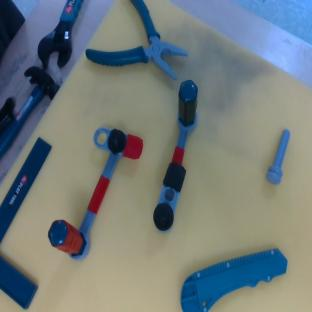non_pass: (149, 78, 205, 233)
pass: (37, 117, 148, 263)
